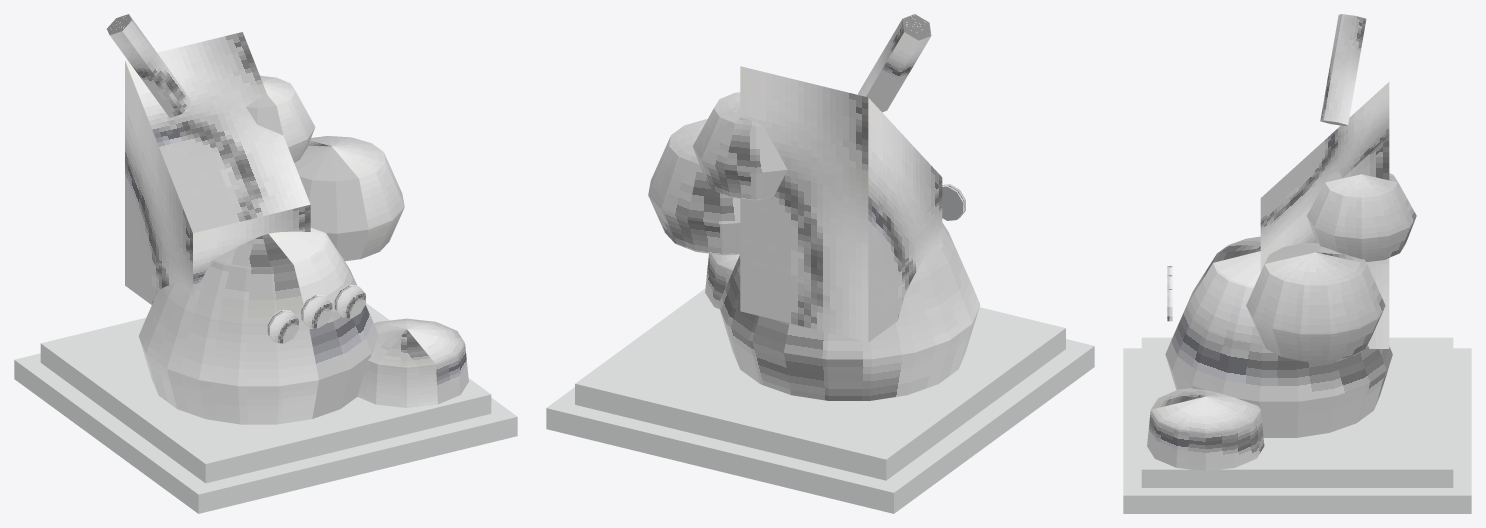
Rendered from Building_SculptureGrand__C.glb.
3 views of the same model, side by side, from view 1: azimuth 30°, elevation 25°; view 2: azimuth 150°, elevation 25°; view 3: azimuth 270°, elevation 25° (orthographic). The views are drawn at different scales.
Parts seen in each view (by area): view 1: SculptureGrand__C; view 2: SculptureGrand__C; view 3: SculptureGrand__C.
Part boxes in pixels (x1=…): SculptureGrand__C: x1=14, y1=14, x2=517, y2=513; SculptureGrand__C: x1=546, y1=14, x2=1094, y2=513; SculptureGrand__C: x1=1123, y1=14, x2=1471, y2=513.
Size of the model in its own units: 1.9 by 2.26 by 1.9.
1 material, 1 textured.
